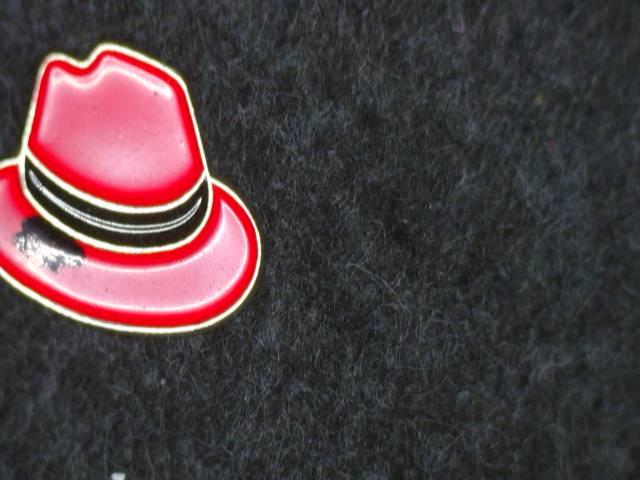Red-Hat: (0, 37, 289, 354)
Scratch: (5, 205, 107, 285)
